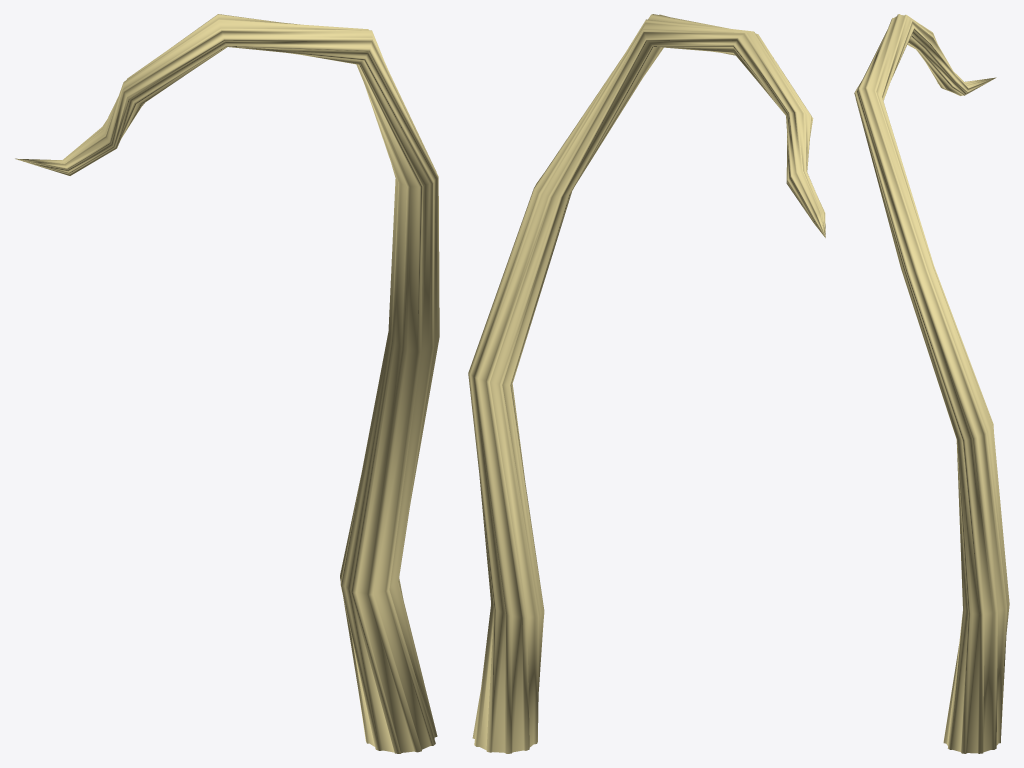
Rendered from Black Licorice Vine.obj.
3 views of the same model, side by side, from view 1: azimuth 30°, elevation 25°; view 2: azimuth 150°, elevation 25°; view 3: azimuth 270°, elevation 25° (orthographic). The views are drawn at different scales.
Visible parts, largest first — view 1: Black_Licorice_Vine; view 2: Black_Licorice_Vine; view 3: Black_Licorice_Vine.
Part boxes in pixels (x1,y1,x2,y2): Black_Licorice_Vine: (15,14,439,753); Black_Licorice_Vine: (468,14,825,753); Black_Licorice_Vine: (854,14,1009,753).
Bounding box in the file's own units: 34.11 × 64.72 × 14.22.
